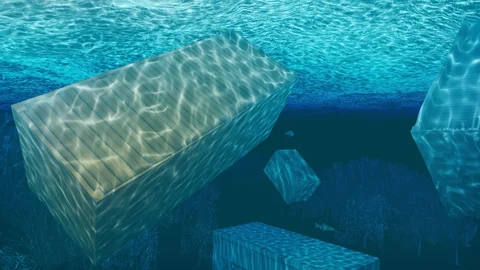Container: (11, 29, 295, 266), (410, 13, 480, 219), (211, 222, 381, 270), (264, 146, 322, 204)
